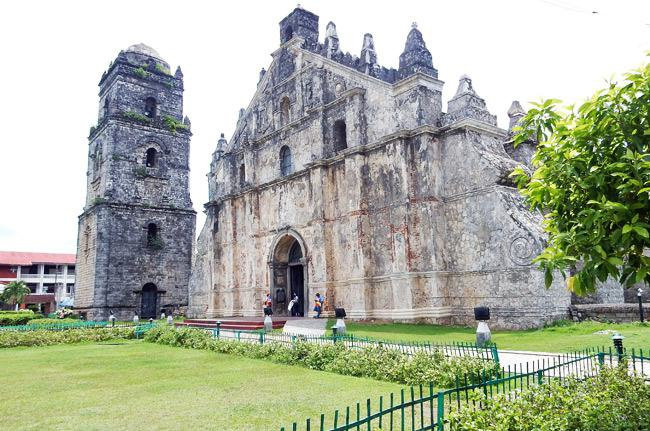paoay_church_paoay_ilocos_norte: (70, 3, 568, 332)
vegetation_damage: (162, 114, 191, 137), (126, 108, 152, 126), (129, 64, 150, 81)
